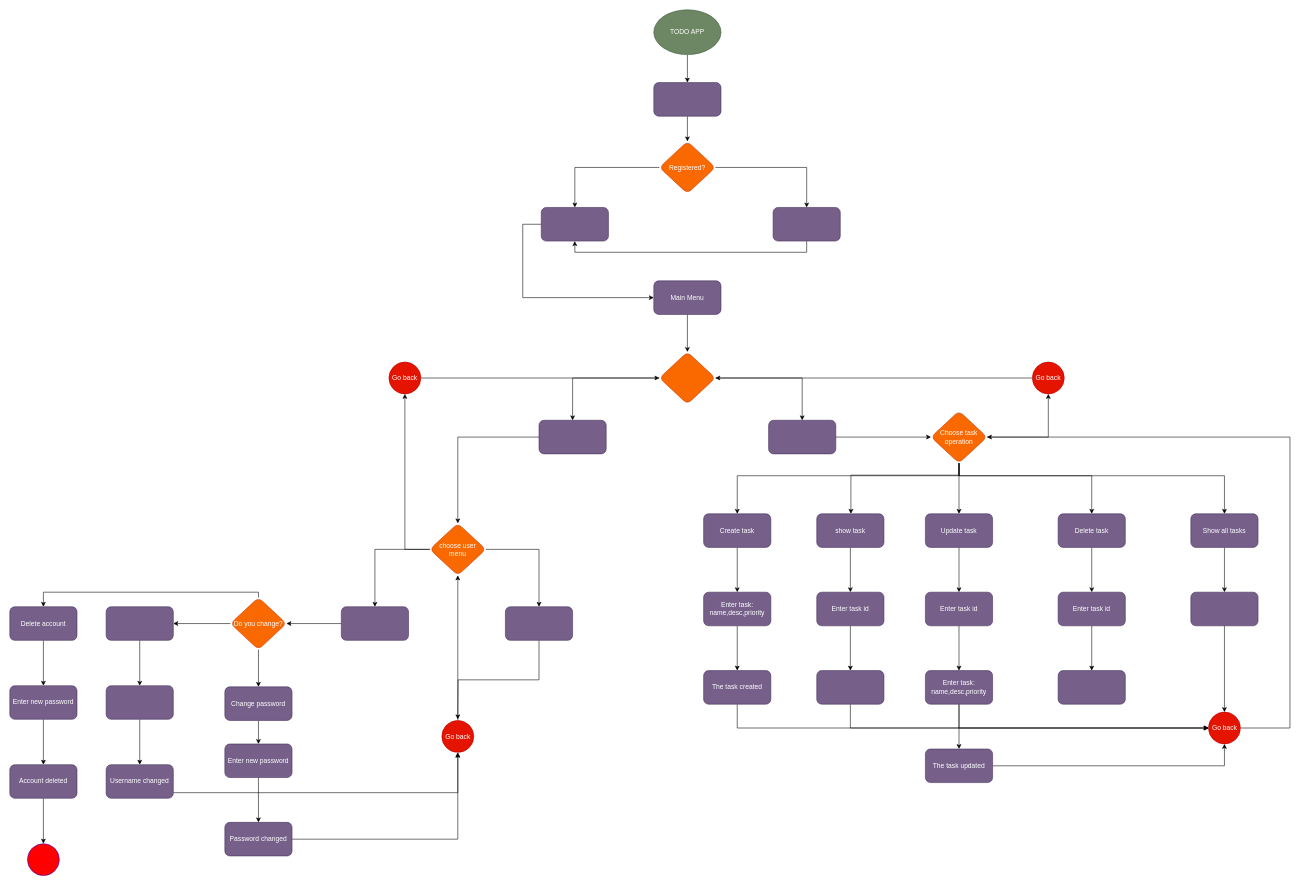
The diagram is 1304 pixels wide and 885 high, and some of its shapes have lost their labels. Each missing label, with the centre of its shape:
"Change username" goes at (139,623).
"Choose panel" goes at (687,377).
"End" goes at (43,859).
"Enter new username" goes at (139,702).
"Enter to Application" goes at (687,99).
"Settings" goes at (375,623).
"Show all tasks of this user" goes at (1224,609).
"Show the task" goes at (850,687).
"Show user information" goes at (539,623).
"Sign In" goes at (574,224).
"Sign Up" goes at (806,224).
"Task panel" goes at (802,437).
"The task deleted" goes at (1091,687).
"User Panel" goes at (572,437).
